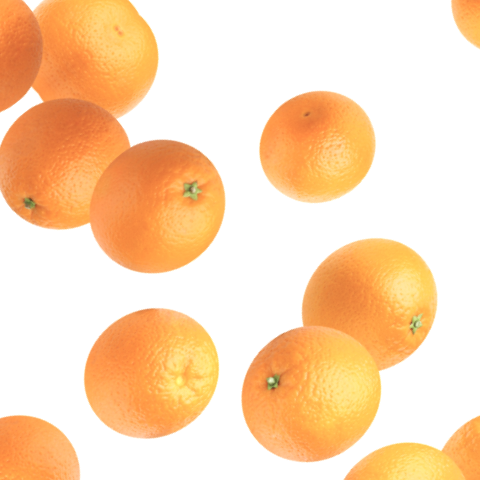orange: (37, 261, 252, 475), (269, 204, 476, 407), (57, 103, 261, 305), (204, 289, 419, 480), (0, 62, 171, 274), (233, 61, 406, 235), (36, 8, 199, 162)
